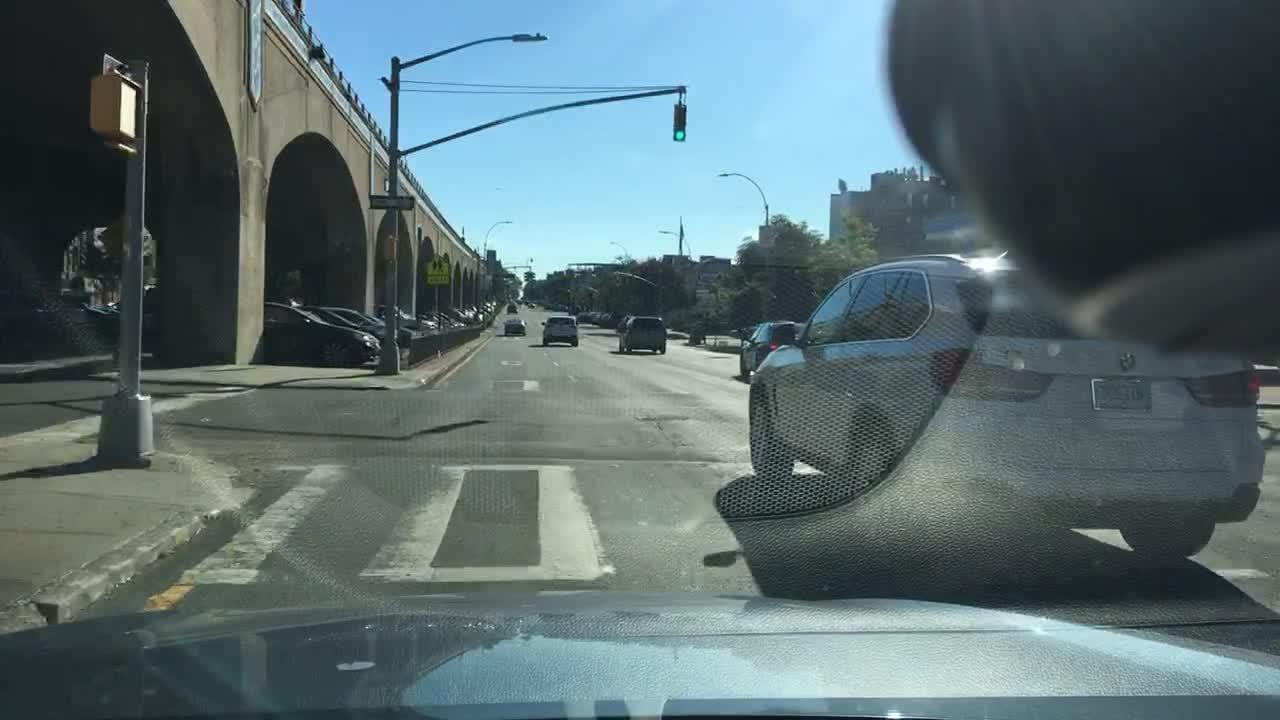bmw: (1105, 346, 1145, 376)
